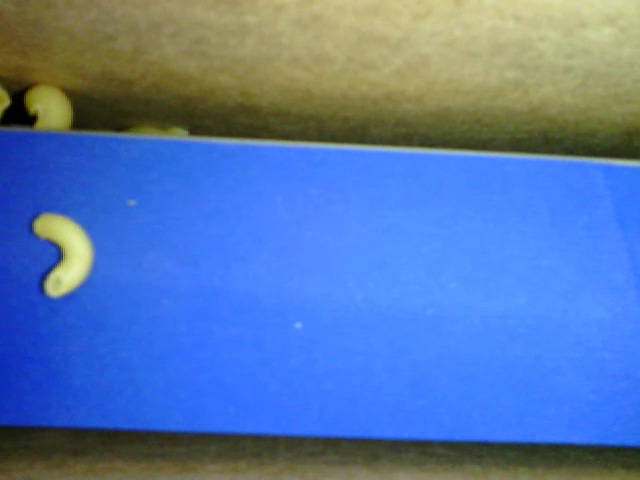elbow: (32, 212, 98, 298)
shell: (21, 81, 75, 133)
